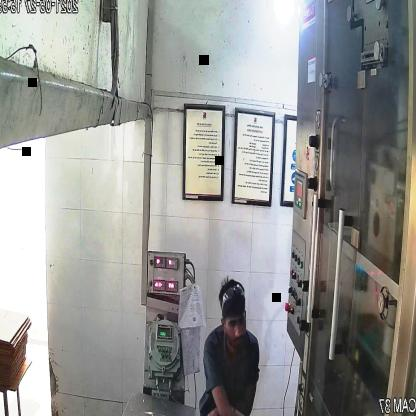no_goggles: (219, 310, 249, 335)
